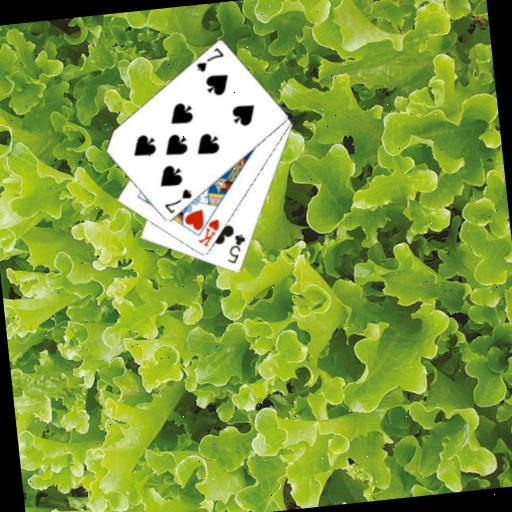5C: (223, 231, 250, 267)
7S: (160, 186, 195, 217), (191, 45, 226, 75)
KH: (193, 216, 224, 250)
